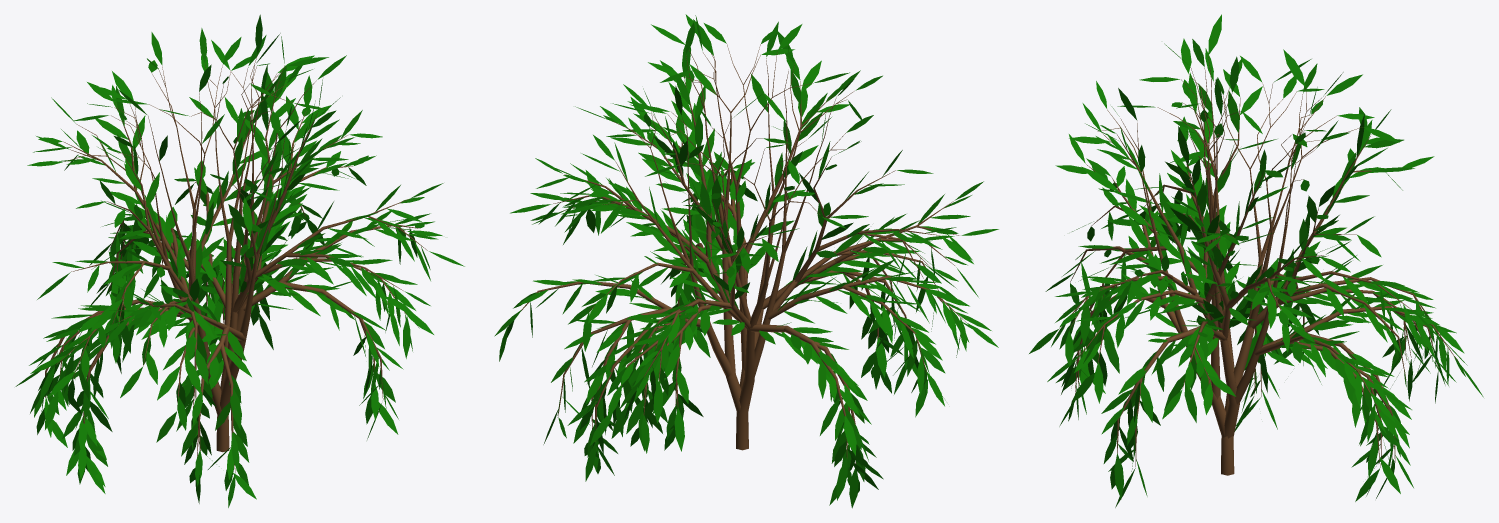
File: Tree2.fbx
The picture shows the model from 3 angles, left to right: view 1: azimuth 30°, elevation 25°; view 2: azimuth 150°, elevation 25°; view 3: azimuth 270°, elevation 25°; orthographic projection. The views are drawn at different scales.
Visible parts, largest first — view 1: leaves, tree; view 2: leaves, tree; view 3: leaves, tree.
Part boxes in pixels (x1=…): leaves: x1=15, y1=14, x2=464, y2=507; tree: x1=45, y1=55, x2=427, y2=472; leaves: x1=494, y1=14, x2=998, y2=508; tree: x1=521, y1=44, x2=966, y2=469; leaves: x1=1029, y1=14, x2=1483, y2=507; tree: x1=1059, y1=56, x2=1458, y2=475.
Bounding box in the file's own units: 562 × 536 × 484.
